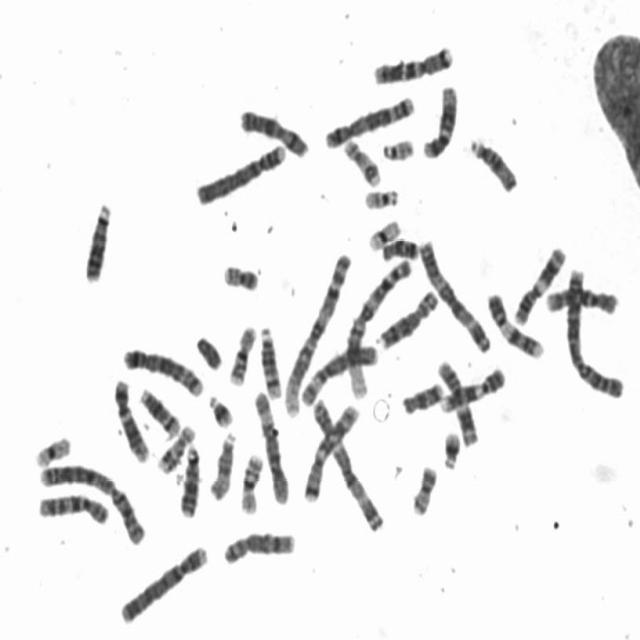A1: (278, 245, 354, 416), (341, 252, 414, 400)
A2: (32, 455, 147, 547), (559, 260, 627, 400)
A3: (306, 390, 386, 534), (413, 231, 493, 354)
B4: (114, 538, 210, 626), (190, 134, 288, 207)
B5: (319, 87, 417, 150), (118, 339, 205, 398)
C10: (32, 485, 112, 527), (540, 279, 620, 317)
C11: (508, 238, 568, 327), (432, 352, 480, 448)
C12: (108, 371, 151, 464), (417, 77, 460, 160)
C6: (296, 335, 378, 408), (248, 383, 292, 505)
C7: (298, 396, 362, 504), (368, 37, 455, 85)
C8: (374, 282, 441, 351), (218, 523, 298, 566)
C9: (482, 284, 547, 360), (436, 360, 508, 414)
D13: (79, 194, 114, 284), (175, 438, 202, 518)
D14: (134, 381, 182, 438), (254, 318, 284, 400)
D15: (465, 128, 520, 194), (204, 424, 238, 502)
E16: (223, 317, 259, 387), (234, 446, 265, 516)
E17: (152, 417, 197, 474), (338, 132, 383, 187)
E18: (396, 375, 446, 416), (377, 230, 420, 262)
F19: (29, 428, 73, 469), (362, 212, 402, 252)
F20: (406, 457, 439, 518), (217, 255, 260, 293)
G21: (203, 386, 236, 429), (437, 423, 463, 471)
G22: (359, 180, 401, 211), (377, 131, 416, 162)
X: (233, 101, 311, 160)
Y: (190, 327, 224, 372)
